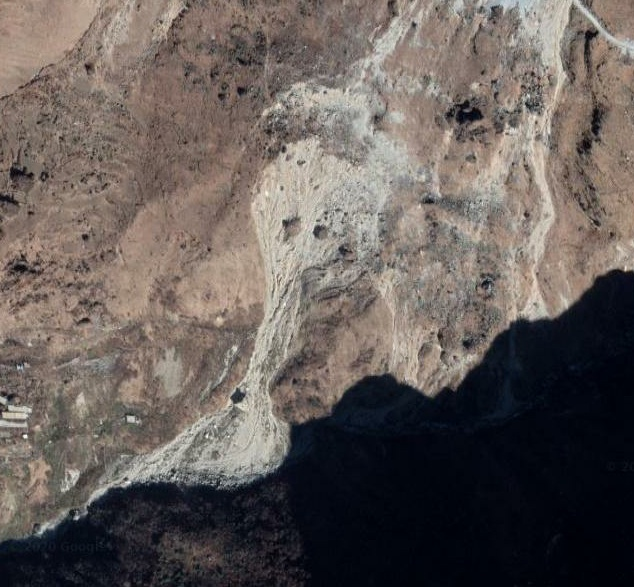slope: (116, 75, 427, 491), (437, 0, 575, 316)
